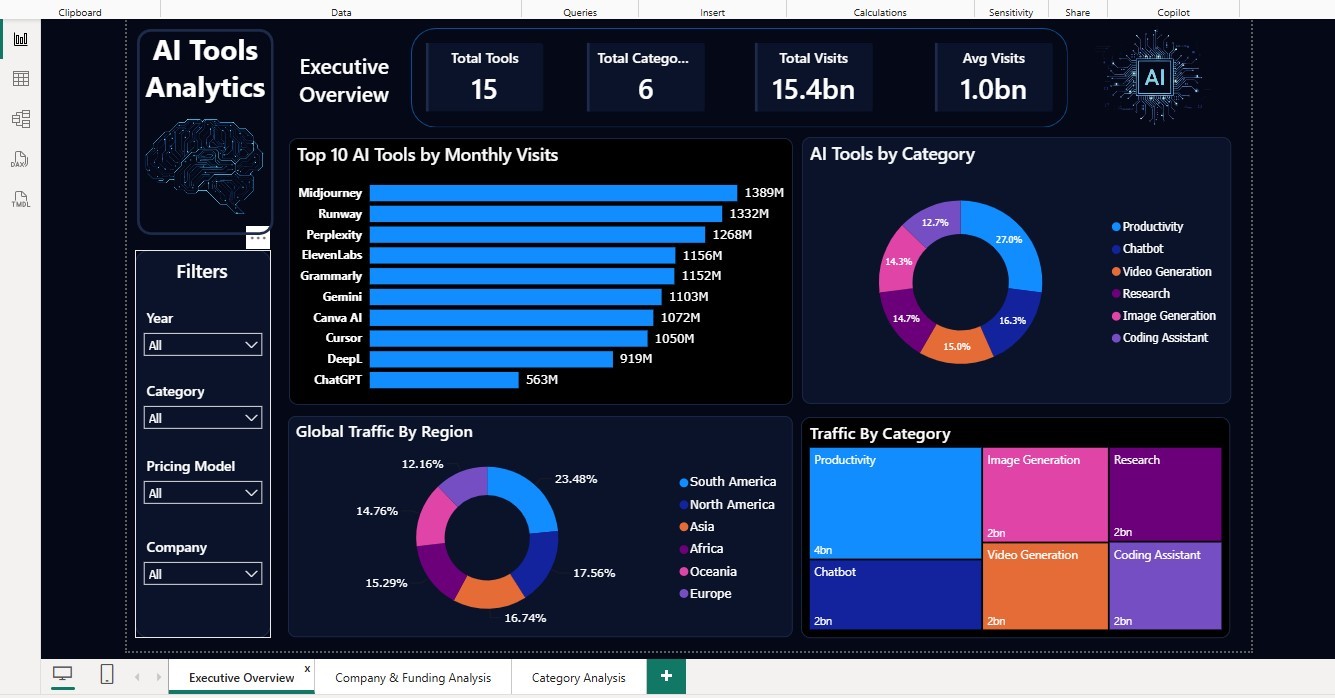

This screenshot's page, from the dashboard's own definition file:
{"tool":"powerbi","page":{"name":"Executive Overview","canvas":[1280,720],"ordinal":0},"visuals":[{"type":"barChart","title":"Top 10 AI Tools by Monthly Visits","fields":{"Category":["AI_Tools.Tool_Name"],"Y":["Sum(AI_Tools.Monthly_Visits)"]},"box":[184.2,135.5,573.7,303.9],"z":0},{"type":"donutChart","title":"AI Tools by Category","fields":{"Category":["AI_Tools.Category"],"Y":["CountNonNull(AI_Tools.Tool_Name)"]},"box":[768.4,134.2,489.5,303.9],"z":1000},{"type":"shape","box":[9.2,263.2,155.3,442.1],"z":2000},{"type":"textbox","box":[39.5,267.1,90.8,38.2],"z":3000},{"type":"slicer","fields":{"Values":["AI_Tools.Launch_Year"]},"box":[9.2,325,155.3,71.1],"z":4000},{"type":"slicer","fields":{"Values":["AI_Tools.Category"]},"box":[9.2,407.9,155.3,76.3],"z":5000},{"type":"slicer","fields":{"Values":["AI_Tools.Pricing_Model"]},"box":[9.2,493.4,155.3,78.9],"z":6000},{"type":"slicer","fields":{"Values":["AI_Tools.Company"]},"box":[9.2,585.5,155.3,89.5],"z":7000},{"type":"shape","box":[11.5,11.5,155.5,234.6],"z":8000},{"type":"donutChart","title":"Global Traffic By Region","fields":{"Category":["AI_Tools.Region"],"Y":["Sum(AI_Tools.Monthly_Visits)"]},"box":[183.6,452.6,575,252.4],"z":9000},{"type":"treemap","title":"Traffic By Category","fields":{"Group":["AI_Tools.Category"],"Values":["Sum(AI_Tools.Monthly_Visits)"]},"box":[768,453,489,252],"z":10000},{"type":"cardVisual","fields":{"Data":["AI_Tools.Total Tools"]},"box":[323.8,10.2,168.3,112.2],"z":11000},{"type":"cardVisual","fields":{"Data":["AI_Tools.Total Categories"]},"box":[507.4,10.2,168.3,112.2],"z":12000},{"type":"cardVisual","fields":{"Data":["AI_Tools.Total Visits"]},"box":[698.6,10.2,168.3,112.2],"z":13000},{"type":"cardVisual","fields":{"Data":["AI_Tools.Avg Visits"]},"box":[903.9,10.2,168.3,112.2],"z":14000},{"type":"shape","box":[323.8,10.2,748.4,113.5],"z":15000},{"type":"textbox","box":[170.8,31.9,153,91.8],"z":16000},{"type":"image","box":[1011,0,246.1,147.9],"z":17000},{"type":"image","box":[11.5,98.2,159.4,137.7],"z":18000}]}

Visuals, with their boxes on the page's 1280x720 design canvas (x1, y1, x2, y2). These are canvas units, not pixel positions in the 1335x698 screenshot, which may show the page scaled, cropped or inside an application window:
"Top 10 AI Tools by Monthly Visits" barChart: region(184, 136, 758, 439)
"AI Tools by Category" donutChart: region(768, 134, 1258, 438)
shape: region(9, 263, 164, 705)
textbox: region(40, 267, 130, 305)
slicer - AI_Tools.Launch_Year: region(9, 325, 164, 396)
slicer - AI_Tools.Category: region(9, 408, 164, 484)
slicer - AI_Tools.Pricing_Model: region(9, 493, 164, 572)
slicer - AI_Tools.Company: region(9, 586, 164, 675)
shape: region(12, 12, 167, 246)
"Global Traffic By Region" donutChart: region(184, 453, 759, 705)
"Traffic By Category" treemap: region(768, 453, 1257, 705)
cardVisual - AI_Tools.Total Tools: region(324, 10, 492, 122)
cardVisual - AI_Tools.Total Categories: region(507, 10, 676, 122)
cardVisual - AI_Tools.Total Visits: region(699, 10, 867, 122)
cardVisual - AI_Tools.Avg Visits: region(904, 10, 1072, 122)
shape: region(324, 10, 1072, 124)
textbox: region(171, 32, 324, 124)
image: region(1011, 0, 1257, 148)
image: region(12, 98, 171, 236)
